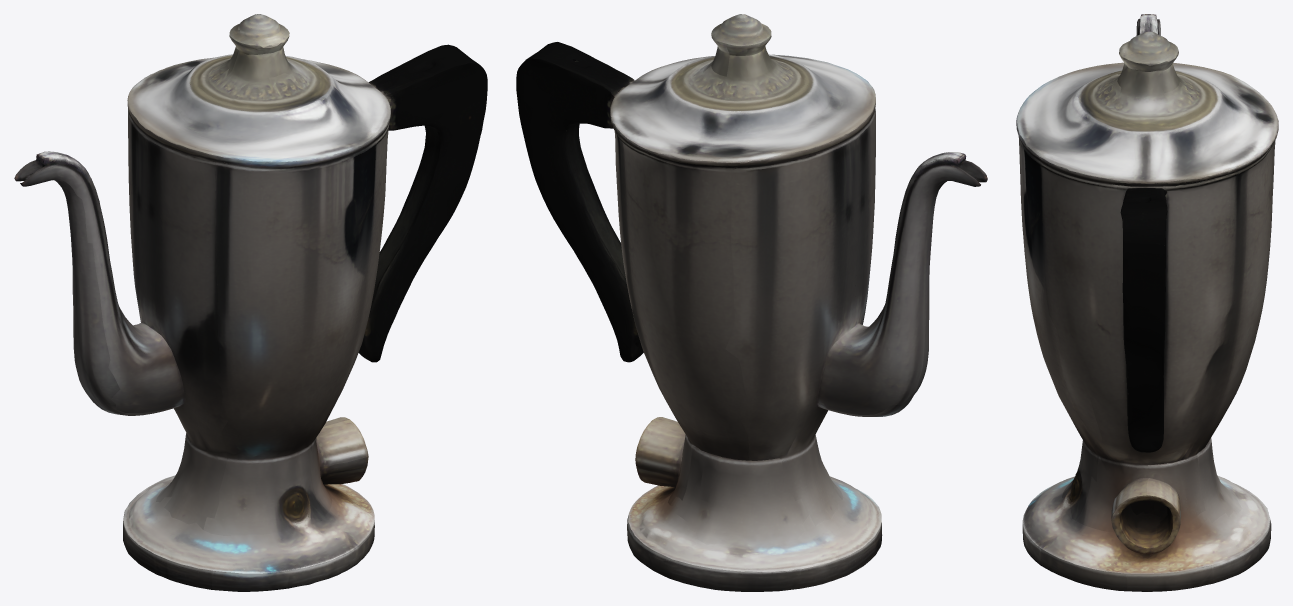
Rendered from percolator_ai2.glb.
3 views of the same model, side by side, from view 1: azimuth 30°, elevation 25°; view 2: azimuth 150°, elevation 25°; view 3: azimuth 270°, elevation 25° (orthographic).
Parts seen in each view (by area): view 1: world.001; view 2: world.001; view 3: world.001.
Part boxes in pixels (x1,y1,x2,y2): world.001: (14,14,487,591); world.001: (516,14,987,591); world.001: (1016,14,1278,591).
Size of the model in its own units: 0.6416 by 0.697 by 0.3234.
1 material, 1 textured.
